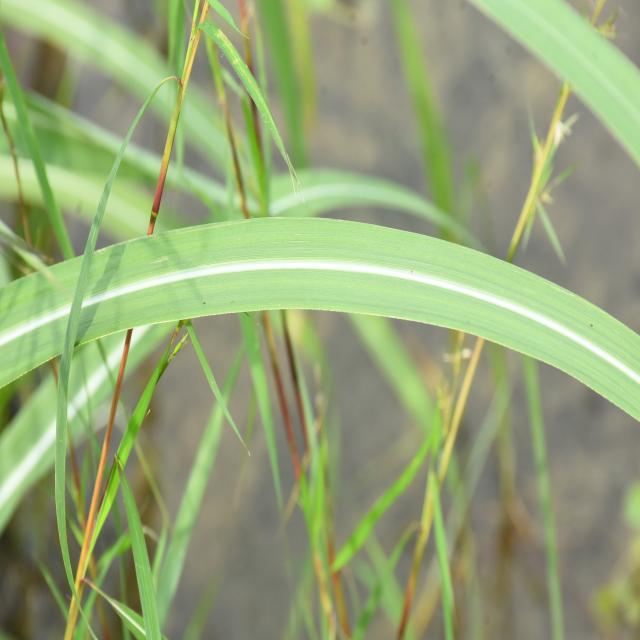Sugarcane: (0, 212, 640, 418)
